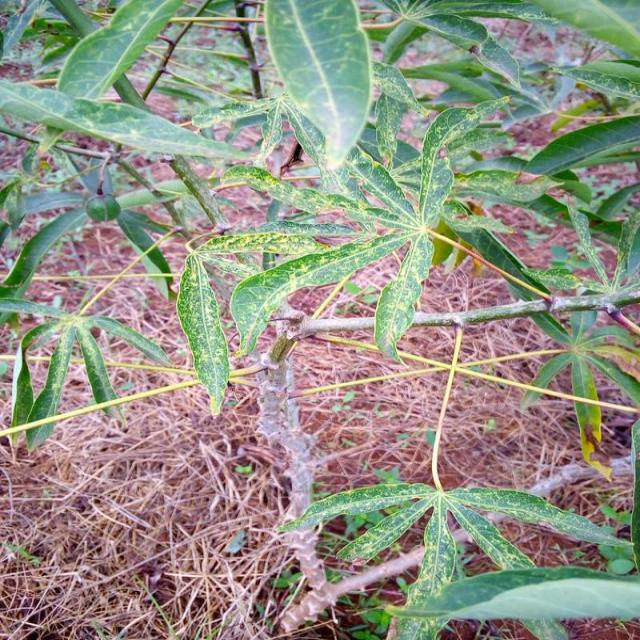cassava leaf: (263, 0, 372, 170), (174, 251, 230, 417)
